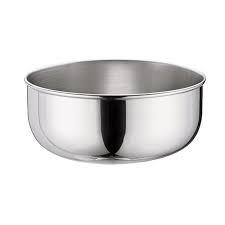Sponge Bowl: (22, 56, 208, 167)
